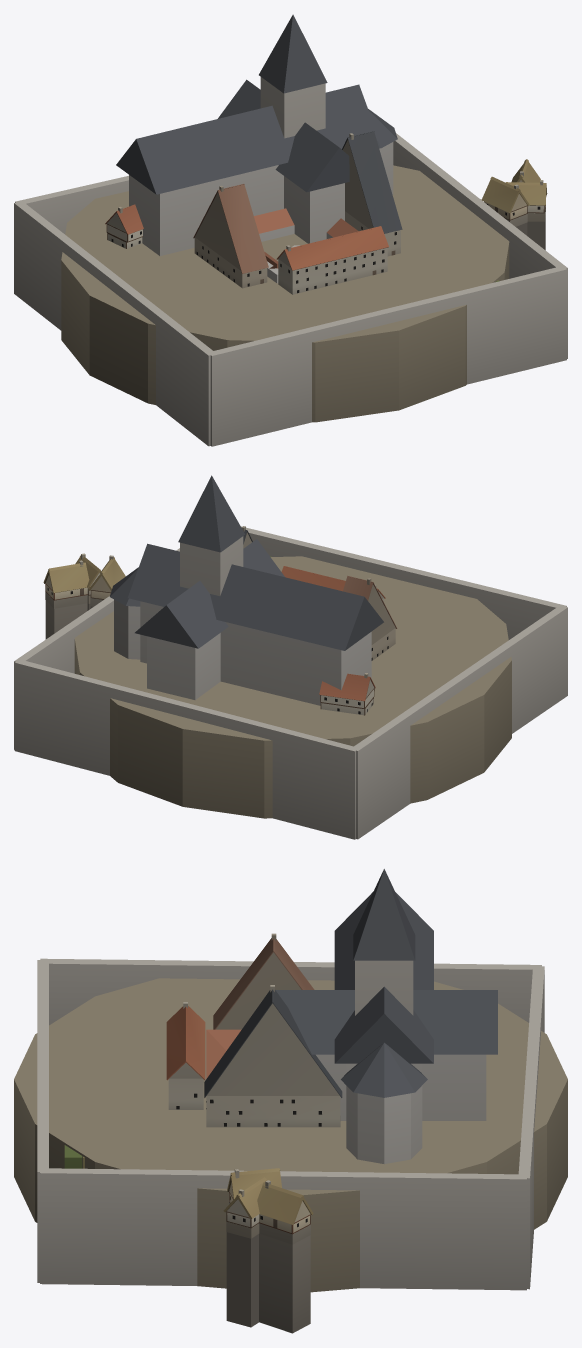
The model's file is abbey_a.glb.
3 views of the same model, one above another, from view 1: azimuth 30°, elevation 25°; view 2: azimuth 150°, elevation 25°; view 3: azimuth 270°, elevation 25° (orthographic). The views are drawn at different scales.
Parts seen in each view (by area): view 1: abbey_a; view 2: abbey_a; view 3: abbey_a.
Boxes of the visible parts, bbox=[...] form: abbey_a: bbox=[14, 14, 567, 446]; abbey_a: bbox=[14, 475, 567, 839]; abbey_a: bbox=[14, 869, 567, 1333].
Bounding box in the file's own units: 2.19 × 1.29 × 1.9.
